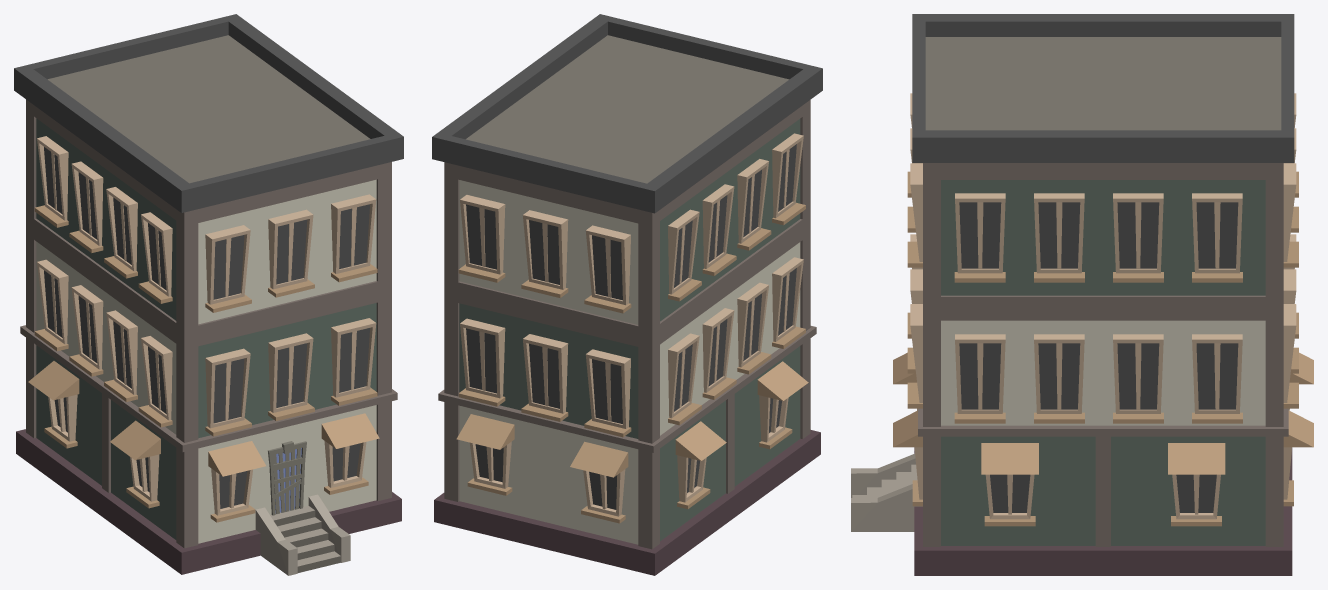
The model's file is building04_color03.fbx.
The picture shows the model from 3 angles, left to right: view 1: azimuth 30°, elevation 25°; view 2: azimuth 150°, elevation 25°; view 3: azimuth 270°, elevation 25°; orthographic projection. The views are drawn at different scales.
Visible parts, largest first — view 1: building04_color03; view 2: building04_color03; view 3: building04_color03.
Boxes of the visible parts, box(x1,y1,x2,y2) form: building04_color03: box(14, 14, 403, 575); building04_color03: box(432, 14, 822, 575); building04_color03: box(851, 14, 1313, 575).
Size of the model in its own units: 1065 by 1537 by 1469.
